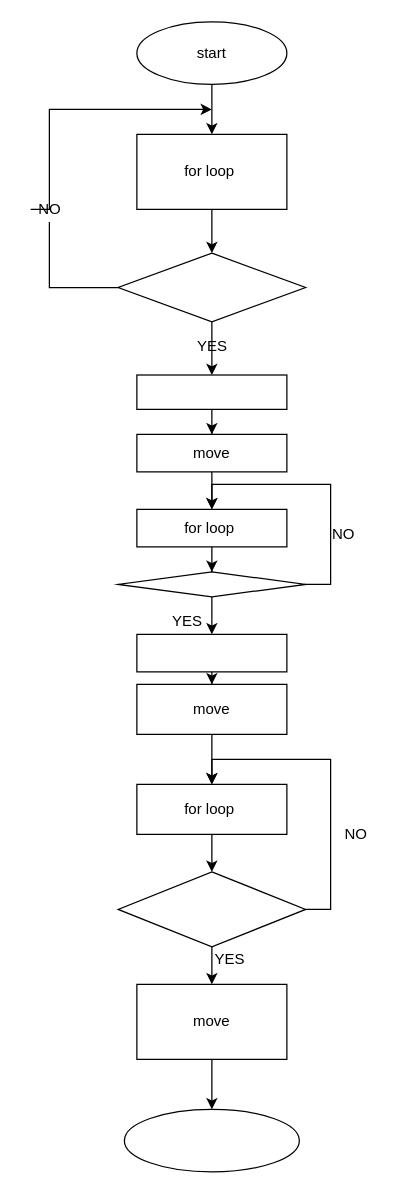
Some shapes in this 396 by 1194 pixel diagram are drawn without their labels. The box of each missing label's shape, as (x1, y1, x2, y2) in pixels:
END: (123, 1108, 299, 1172)
if bigfish: (117, 571, 306, 597)
if Hai: (117, 252, 306, 322)
if smallfish: (117, 871, 306, 947)
